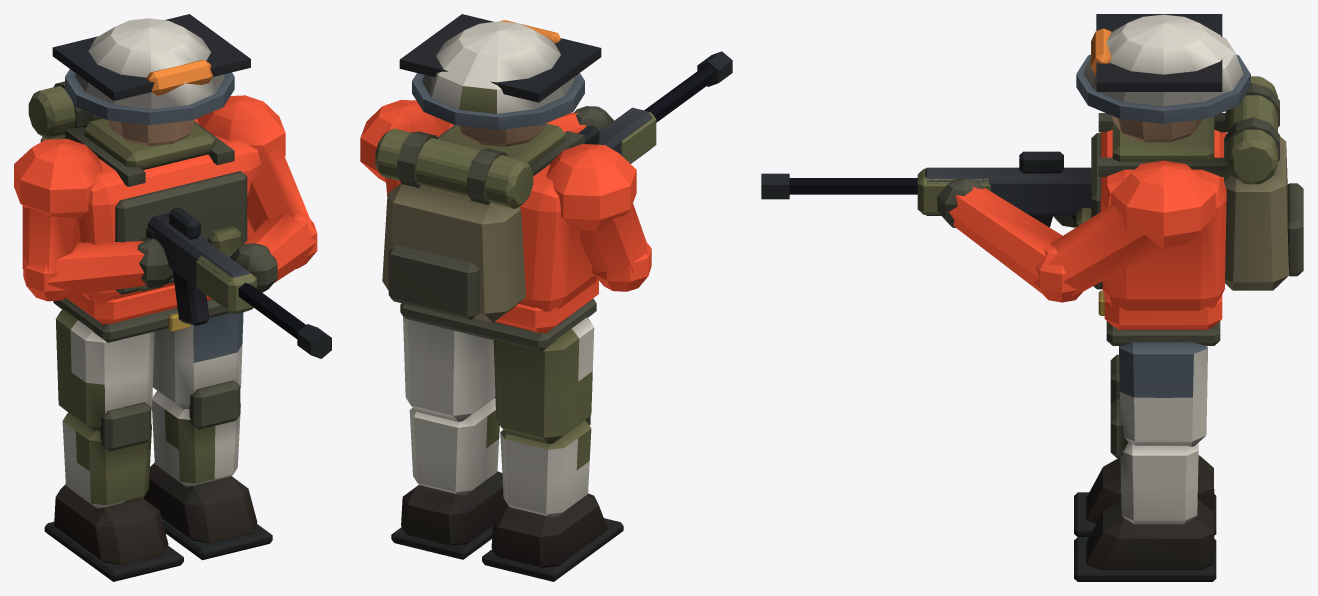
The model's file is ranger.glb.
The picture shows the model from 3 angles, left to right: view 1: azimuth 30°, elevation 25°; view 2: azimuth 150°, elevation 25°; view 3: azimuth 270°, elevation 25°; orthographic projection. The views are drawn at different scales.
Visible parts, largest first — view 1: geo_torso, geo_leg_right, geo_leg_left, geo_arm_right, geo_arm_left; view 2: geo_torso, geo_leg_right, geo_leg_left, geo_arm_right, geo_arm_left; view 3: geo_torso, geo_leg_left, geo_arm_left, geo_leg_right.
Boxes of the visible parts, bbox=[...] form: geo_torso: bbox=[14, 14, 331, 358]; geo_leg_right: bbox=[44, 309, 183, 581]; geo_leg_left: bbox=[143, 312, 272, 560]; geo_arm_right: bbox=[22, 205, 173, 301]; geo_arm_left: bbox=[230, 148, 317, 292]; geo_torso: bbox=[360, 14, 732, 351]; geo_leg_right: bbox=[482, 317, 623, 581]; geo_leg_left: bbox=[391, 316, 509, 559]; geo_arm_right: bbox=[579, 203, 651, 291]; geo_arm_left: bbox=[546, 106, 613, 133]; geo_torso: bbox=[761, 14, 1303, 345]; geo_leg_left: bbox=[1074, 342, 1216, 581]; geo_arm_left: bbox=[937, 177, 1162, 302]; geo_leg_right: bbox=[1074, 354, 1216, 536].
Size of the model in its own units: 1.55 by 2.82 by 2.67.
